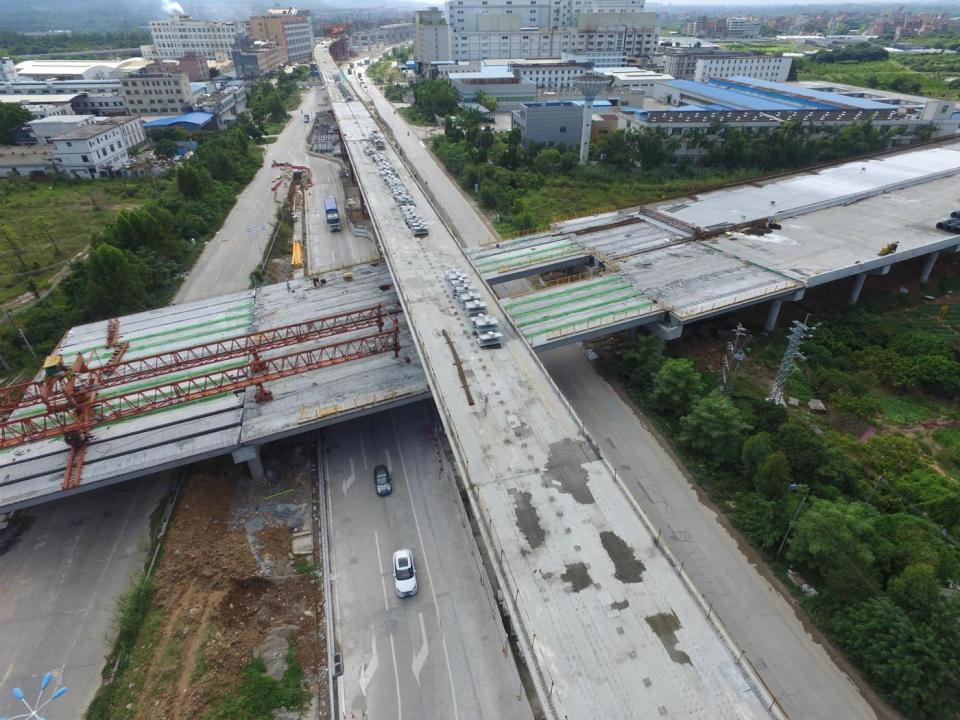car: (389, 548, 418, 599), (372, 466, 390, 496)
truck: (324, 198, 342, 231), (303, 114, 309, 122)
